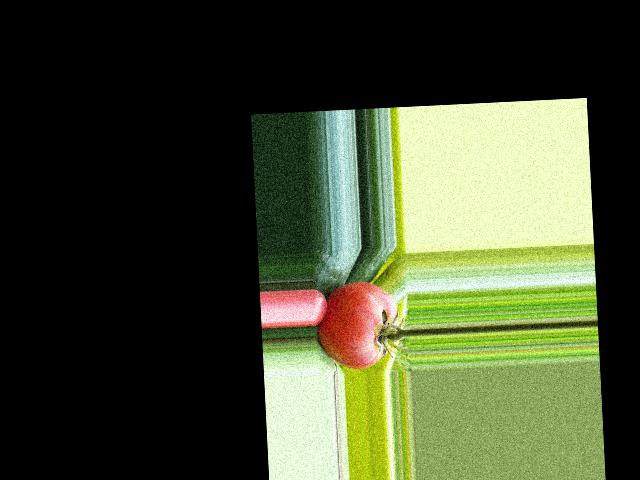tomato: (314, 280, 399, 371)
